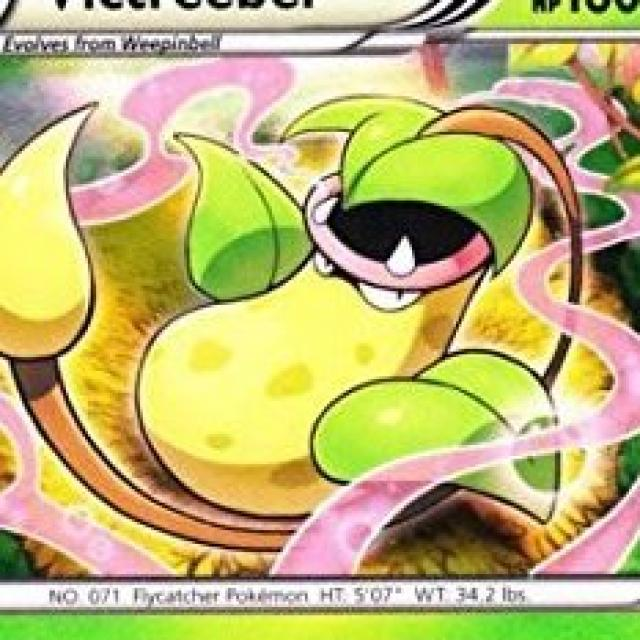Victreebel: (128, 99, 577, 528)
